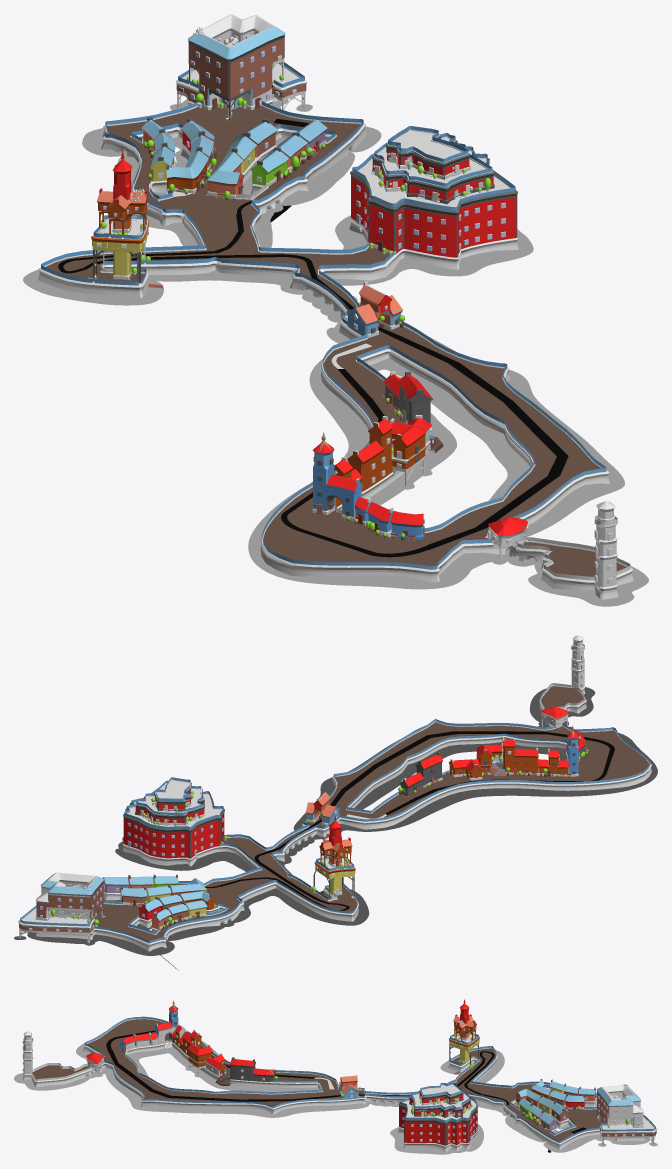
File: TownScaperAsset.fbx
3 views of the same model, one above another, from view 1: azimuth 30°, elevation 25°; view 2: azimuth 150°, elevation 25°; view 3: azimuth 270°, elevation 25° (orthographic). The views are drawn at different scales.
Parts seen in each view (by area): view 1: TownScaper, RoadP4; view 2: TownScaper, RoadP4; view 3: TownScaper, RoadP4.
Part boxes in pixels (bbox=[...]): TownScaper: bbox=[23, 14, 648, 606]; RoadP4: bbox=[283, 254, 568, 549]; TownScaper: bbox=[14, 635, 657, 955]; RoadP4: bbox=[254, 731, 589, 862]; TownScaper: bbox=[14, 999, 657, 1154]; RoadP4: bbox=[107, 1049, 410, 1101].
Size of the model in its own units: 3686 by 1463 by 7546.
